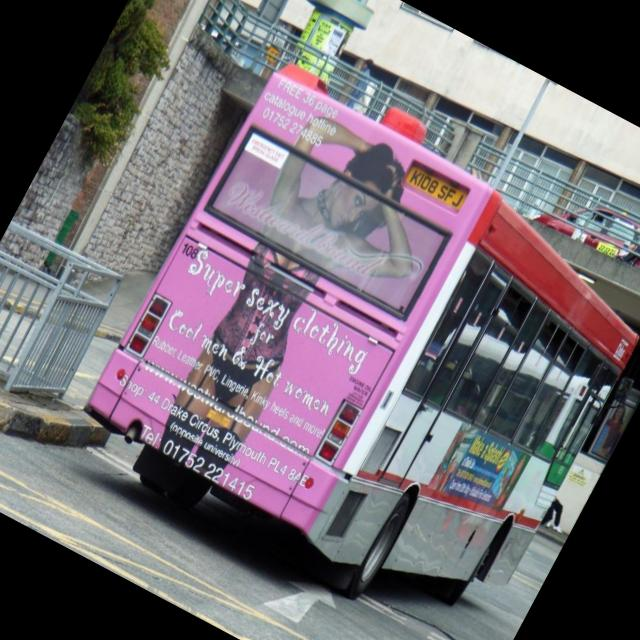bus: (58, 40, 640, 640)
